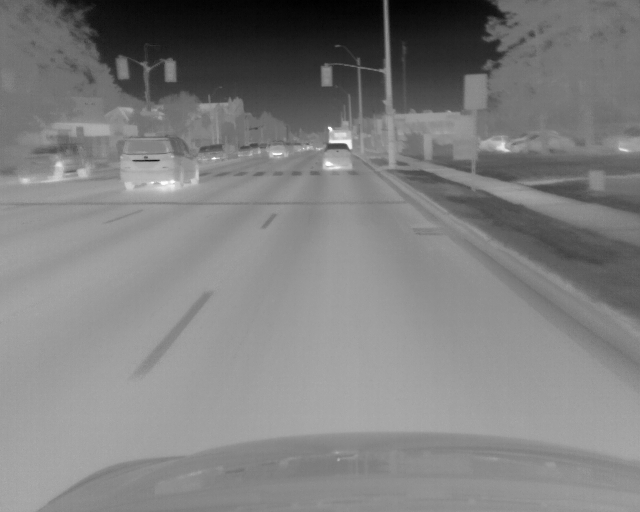car: (119, 134, 202, 189), (14, 144, 87, 182), (510, 131, 570, 153), (321, 144, 354, 172), (326, 126, 351, 151), (477, 133, 505, 154), (196, 144, 225, 162), (267, 141, 289, 159), (236, 146, 251, 158), (250, 143, 261, 156)
